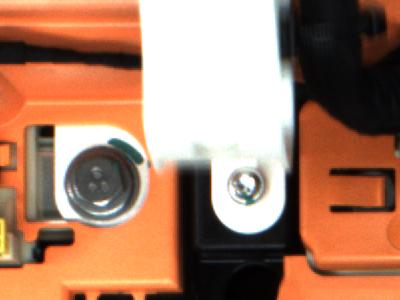nut_b: (64, 144, 146, 220)
